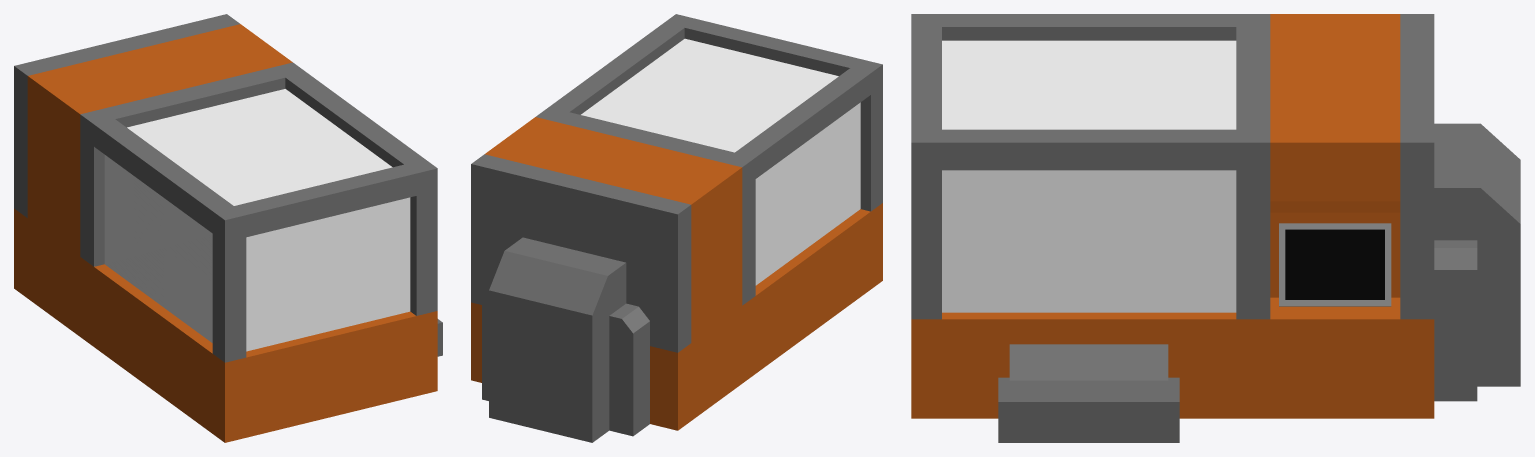
The model's file is Fabricator.fbx.
3 renders of one model, left to right at view 1: azimuth 30°, elevation 25°; view 2: azimuth 150°, elevation 25°; view 3: azimuth 270°, elevation 25°, orthographic. The views are drawn at different scales.
Parts seen in each view (by area): view 1: Fabricator, Fabricator Field; view 2: Fabricator, Fabricator Field; view 3: Fabricator, Fabricator Field, Fabricator Screen.
Boxes of the visible parts, x1,y1,x2,y2 form: Fabricator: [14, 14, 442, 442]; Fabricator Field: [104, 89, 410, 351]; Fabricator: [471, 14, 882, 442]; Fabricator Field: [581, 38, 860, 285]; Fabricator: [911, 14, 1520, 442]; Fabricator Field: [942, 40, 1236, 312]; Fabricator Screen: [1279, 223, 1391, 306].
Size of the model in its own units: 2.38 by 2 by 4.
